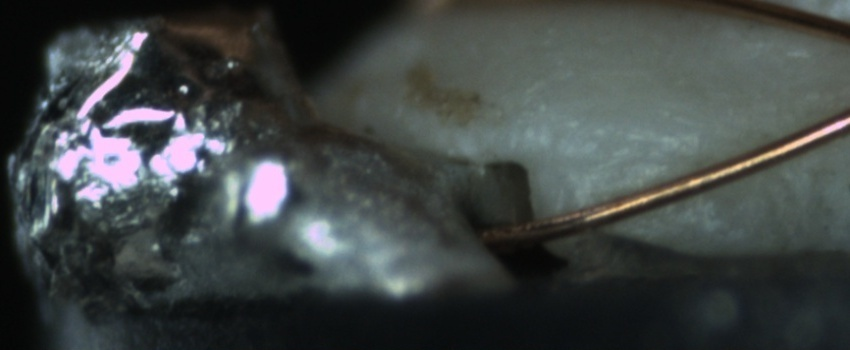DL: (557, 124, 710, 190)
